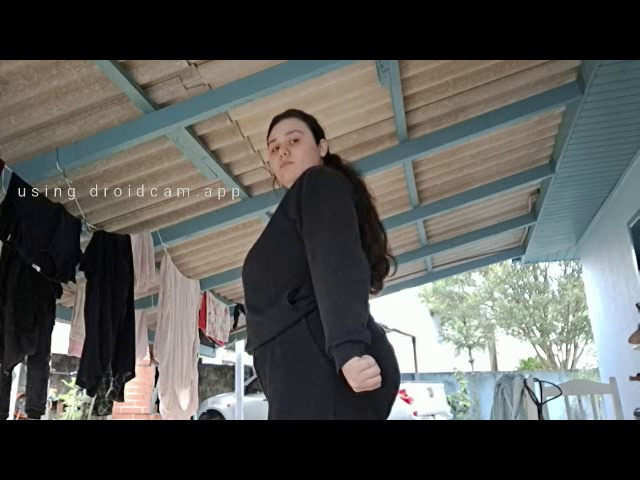MULHER: (236, 92, 369, 192)
SOS: (328, 331, 396, 418)
